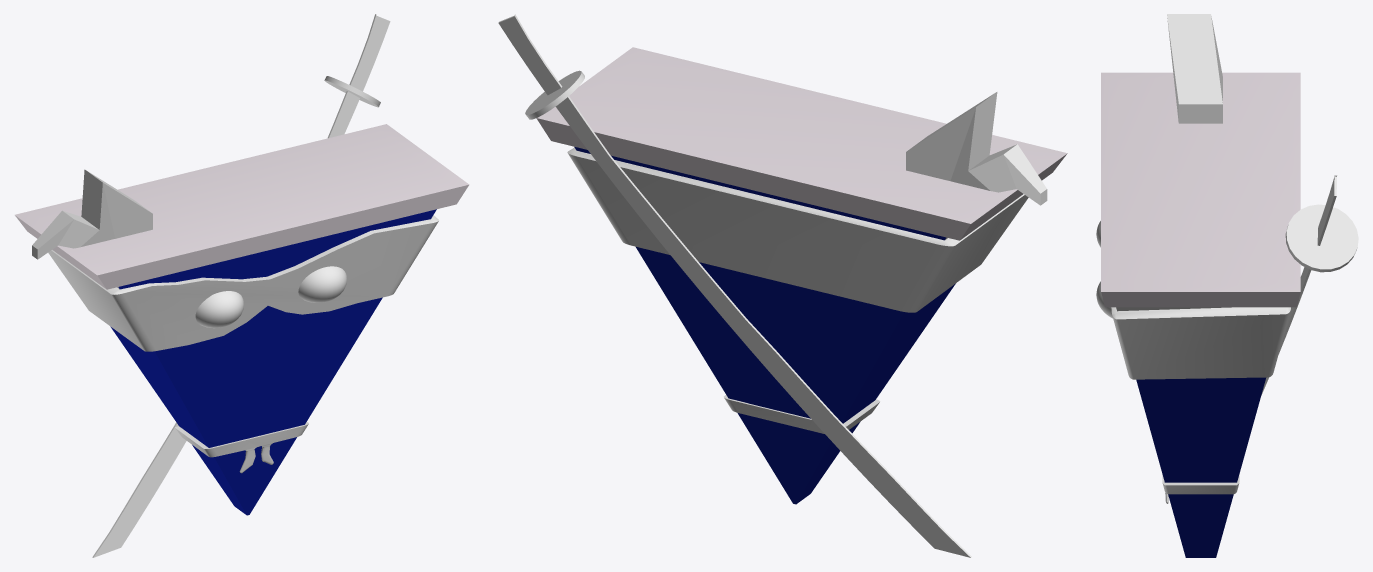
File: playerRythm 1.fbx
3 renders of one model, left to right at view 1: azimuth 30°, elevation 25°; view 2: azimuth 150°, elevation 25°; view 3: azimuth 270°, elevation 25°, orthographic. The views are drawn at different scales.
Parts seen in each view (by area): view 1: Cube.006, Cube, Cube.003, Cube.009, Cube.001, Cube.005, Cube.004, Sphere, Sphere.001; view 2: Cube.006, Cube.003, Cube.007, Cube, Cube.001, Cube.009, Cube.004, Cube.005, Cylinder; view 3: Cube.006, Cube, Cube.003, Cube.009, Cylinder, Cube.004, Cube.001.
Boxes of the visible parts, <box> form: Cube.006: <box>15,124,469,289</box>; Cube: <box>110,297,382,515</box>; Cube.003: <box>48,215,439,351</box>; Cube.009: <box>32,169,152,259</box>; Cube.001: <box>92,14,390,557</box>; Cube.005: <box>118,209,436,289</box>; Cube.004: <box>175,422,308,473</box>; Sphere: <box>195,291,243,328</box>; Sphere.001: <box>298,266,346,302</box>; Cube.006: <box>536,47,1067,240</box>; Cube.003: <box>567,147,1028,312</box>; Cube.007: <box>661,261,879,470</box>; Cube: <box>636,247,955,504</box>; Cube.001: <box>498,14,971,557</box>; Cube.009: <box>906,92,1047,205</box>; Cube.004: <box>723,395,880,433</box>; Cube.005: <box>574,147,946,240</box>; Cylinder: <box>525,70,584,119</box>; Cube.006: <box>1101,72,1300,307</box>; Cube: <box>1136,377,1265,557</box>; Cube.003: <box>1111,307,1290,379</box>; Cube.009: <box>1167,14,1222,123</box>; Cylinder: <box>1285,204,1358,272</box>; Cube.004: <box>1162,474,1239,503</box>; Cube.001: <box>1261,175,1336,395</box>.
Bounding box in the file's own units: 268 × 263 × 123.
